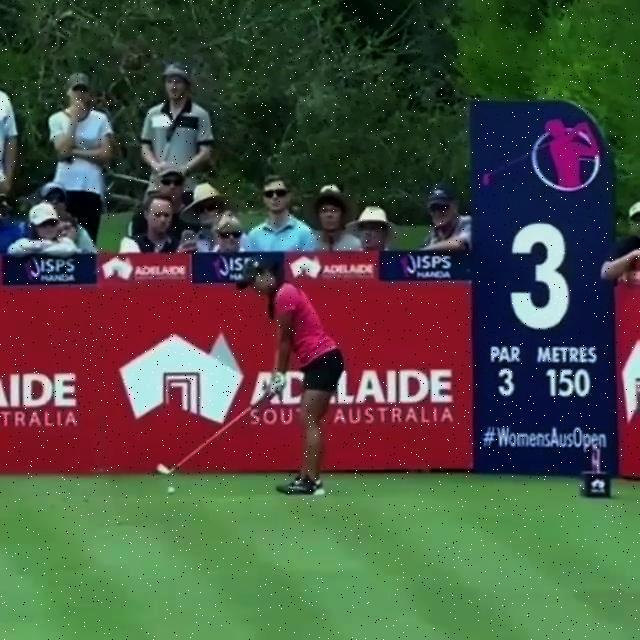ClubHead: (156, 463, 171, 475)
GolfBall: (167, 487, 176, 495)
